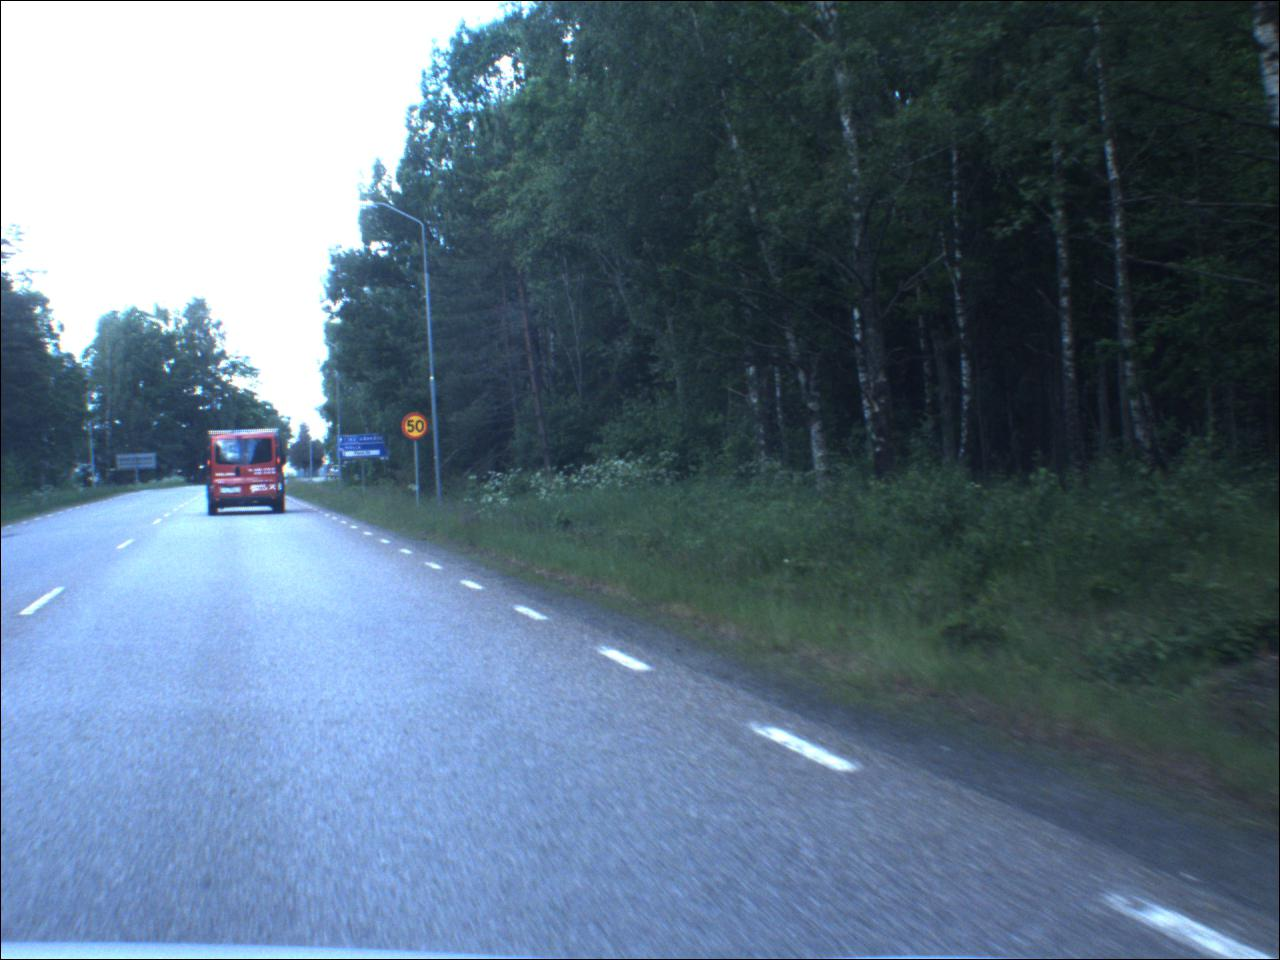50_SIGN: (404, 413, 431, 441)
